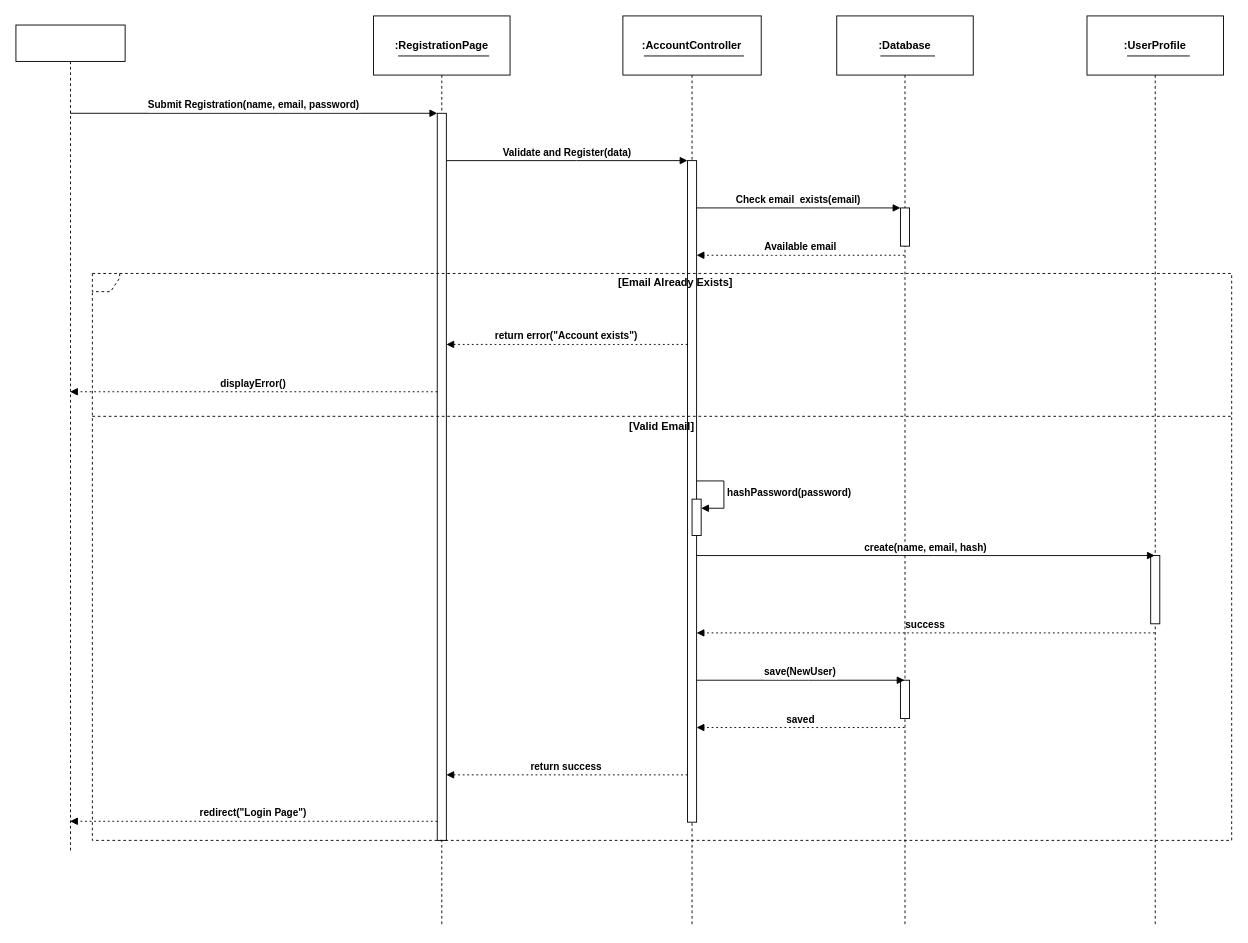
Image size: 1248x943. Some labels were removed from this diagram. Here are the shapes that lost their labels. From the top down, the box of each, then its label:
(15, 24, 125, 853): User
(91, 273, 1232, 840): alt
